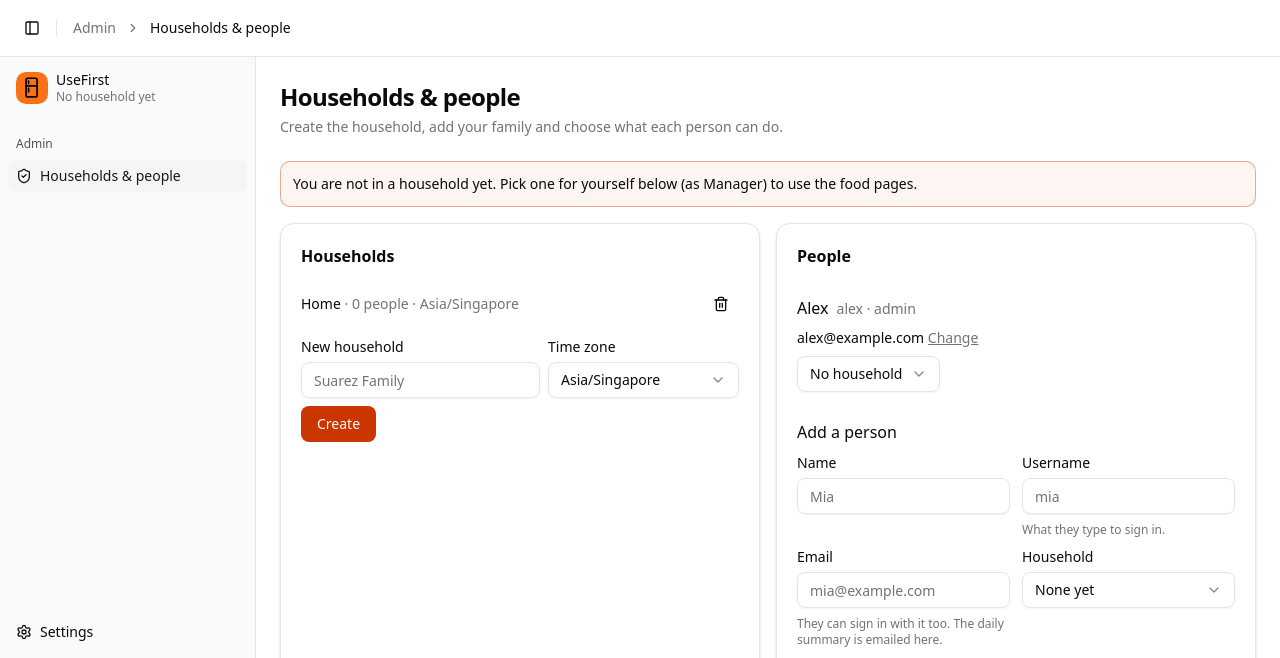
Test: Households & people › puts the admin in a household as a manager
Select "Home" in the dropdown named "Alex's household": (868, 374) [797,356,940,392]
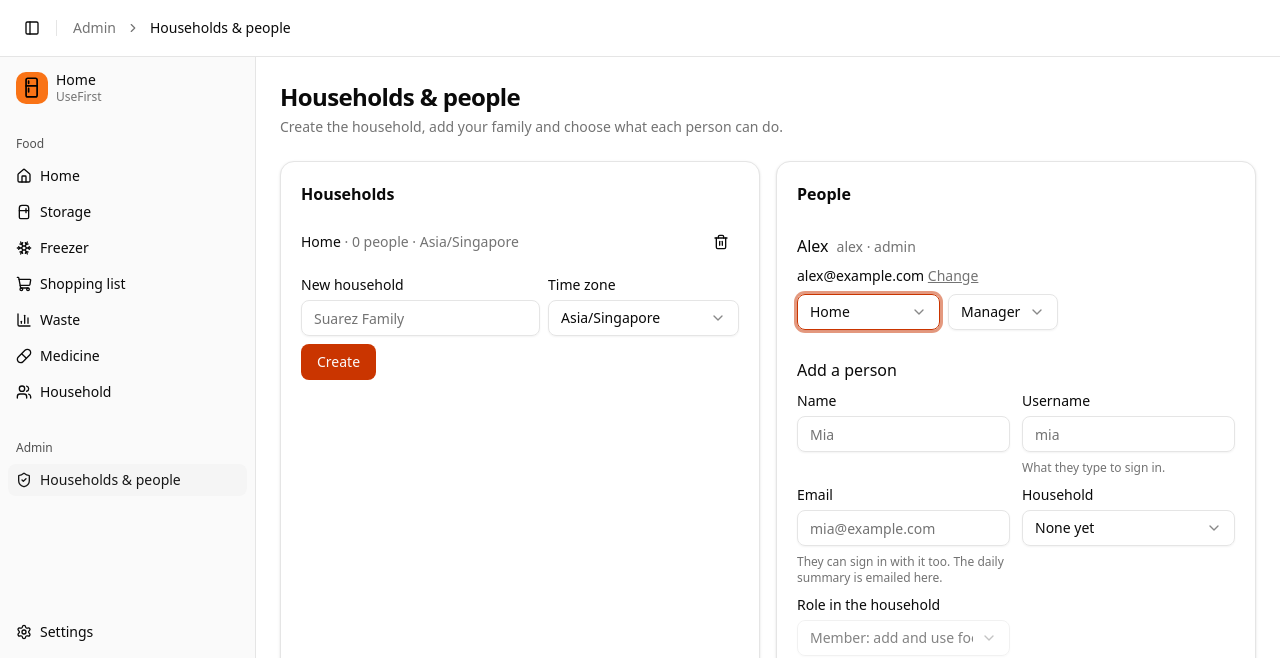
Result: the link "Storage" is shown at [16,202,91,221]
